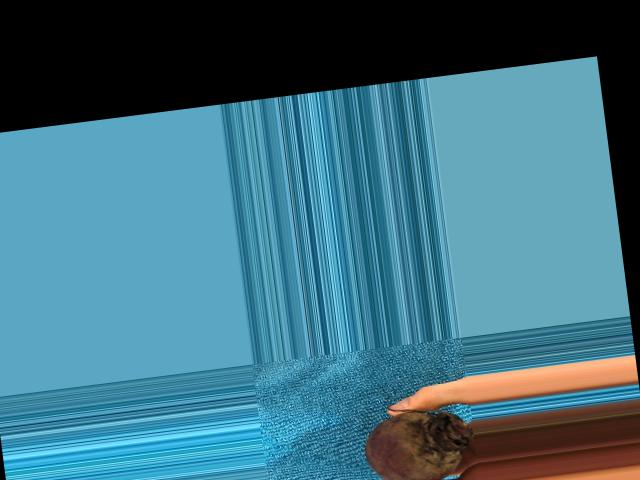beet: (359, 395, 477, 480)
